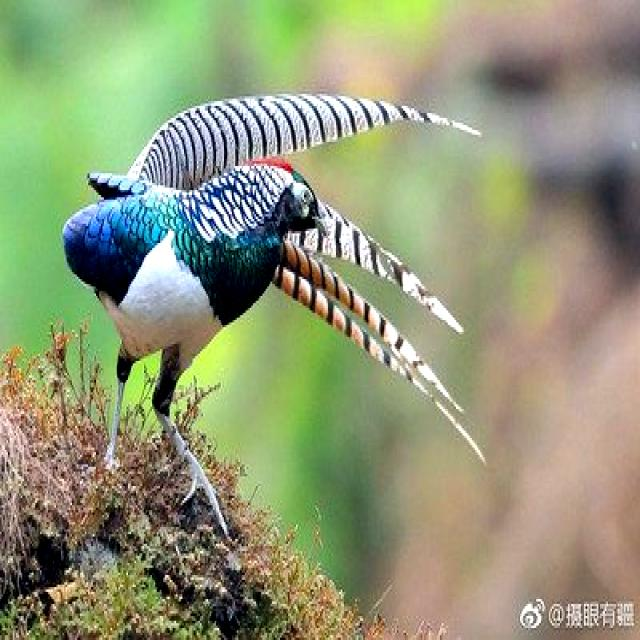Chrysolophus amherstiae: (131, 94, 478, 188), (274, 241, 461, 409), (291, 202, 461, 330)
